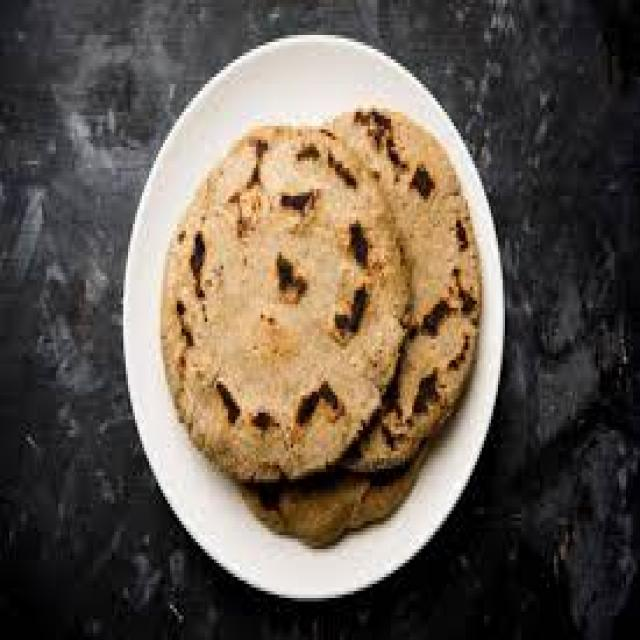ROTI: (161, 122, 400, 476)
